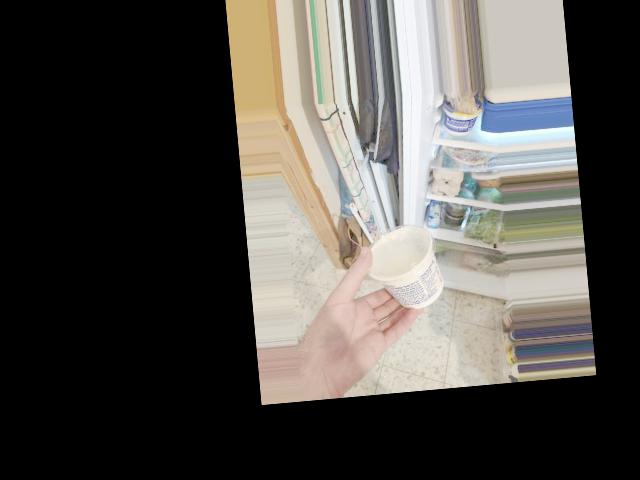cotage: (368, 223, 439, 315)
